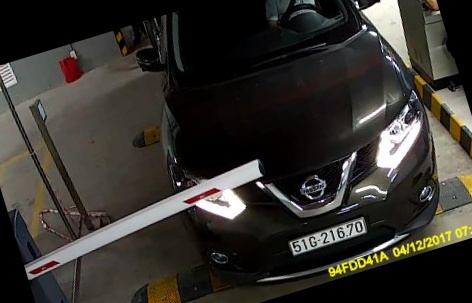plate: (289, 213, 368, 259)
